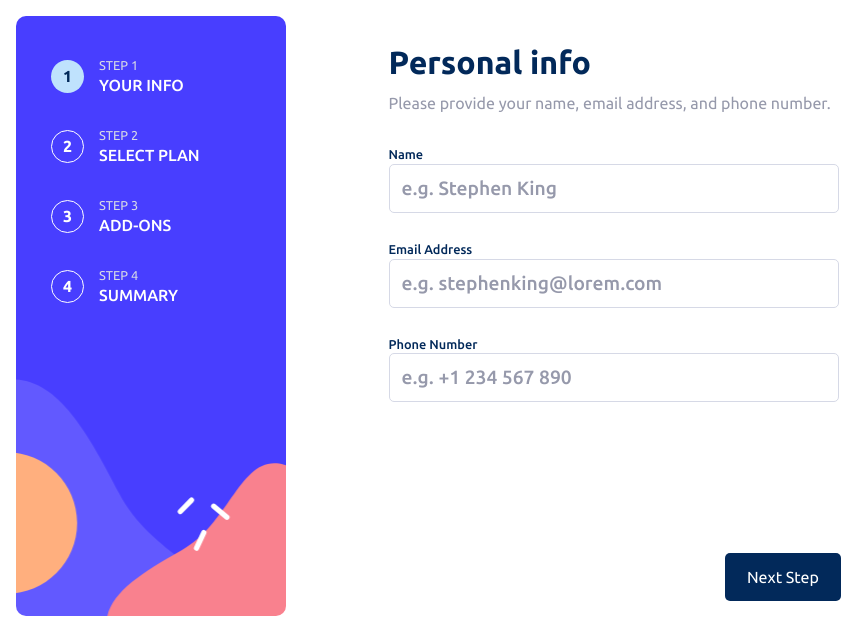
Test: Integration between the main component and the forms it loads › Should display the correct form when using the navigation component
Click the button named "step 4summary" at (68, 286), box x1=51 y1=270 x2=84 y2=302
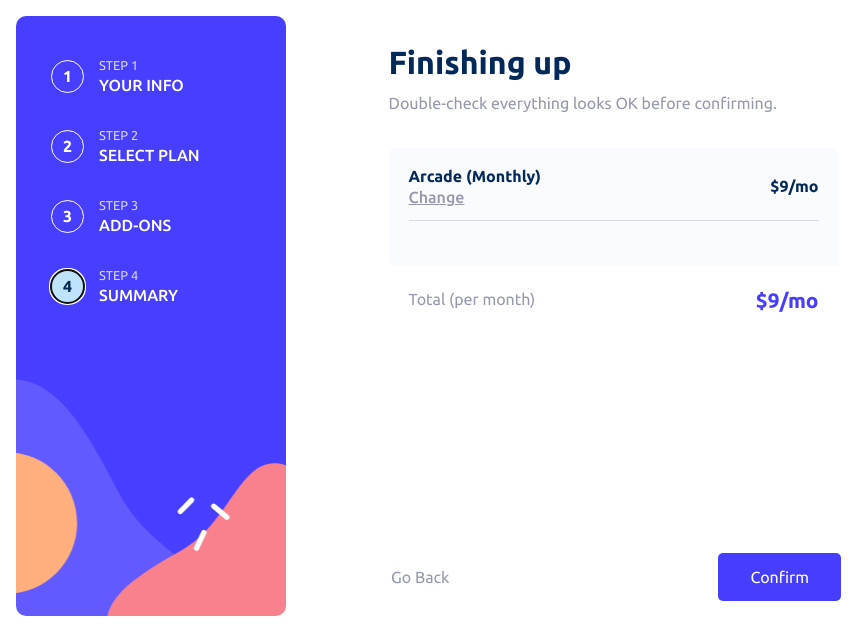
Result: the heading "Finishing up" is shown at x1=388 y1=44 x2=572 y2=80
